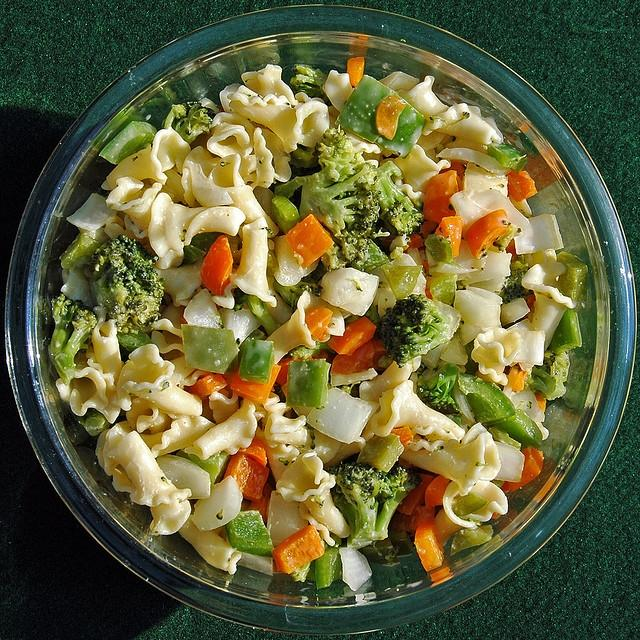broccoli: (326, 461, 423, 550), (83, 234, 165, 334), (374, 294, 452, 368), (48, 294, 98, 386), (372, 160, 424, 236), (163, 101, 217, 145), (416, 362, 462, 412), (232, 293, 282, 337), (272, 278, 324, 314), (290, 64, 333, 107), (318, 124, 354, 169), (316, 542, 348, 590), (540, 350, 570, 400), (488, 142, 528, 174), (78, 408, 111, 437)
carrot: (285, 214, 334, 269), (272, 524, 325, 574), (466, 209, 510, 260), (223, 454, 269, 502), (230, 364, 281, 405), (200, 234, 233, 296), (423, 170, 462, 222), (326, 316, 376, 356), (500, 448, 544, 493), (397, 474, 436, 516), (330, 340, 374, 375), (414, 523, 445, 572), (375, 94, 407, 140), (391, 505, 435, 537), (246, 481, 276, 524), (433, 215, 462, 259), (189, 373, 228, 403), (276, 357, 314, 386), (304, 306, 334, 341), (505, 170, 537, 202), (236, 435, 267, 467), (424, 475, 451, 510), (372, 336, 388, 372), (347, 56, 364, 88), (508, 366, 528, 392), (438, 162, 465, 180), (390, 424, 414, 444), (403, 233, 423, 254), (524, 295, 536, 318), (536, 395, 547, 413), (425, 288, 433, 300), (180, 316, 188, 324)
onion: (306, 387, 380, 444), (192, 476, 244, 532), (320, 268, 380, 316), (156, 454, 210, 499), (66, 193, 119, 231), (184, 288, 222, 329), (339, 547, 372, 591), (528, 214, 564, 254), (449, 190, 487, 225), (494, 441, 525, 482)
